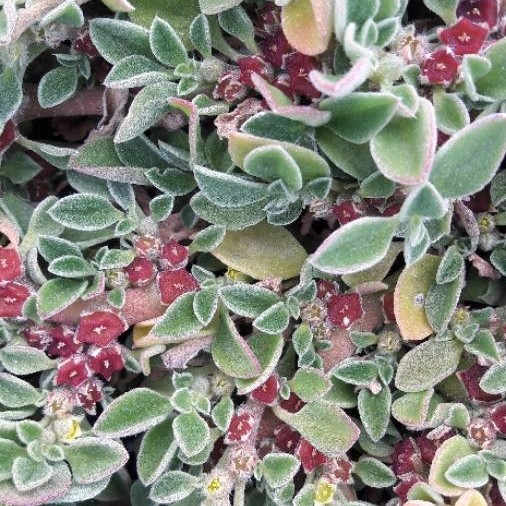obstacle: (36, 39, 493, 473)
